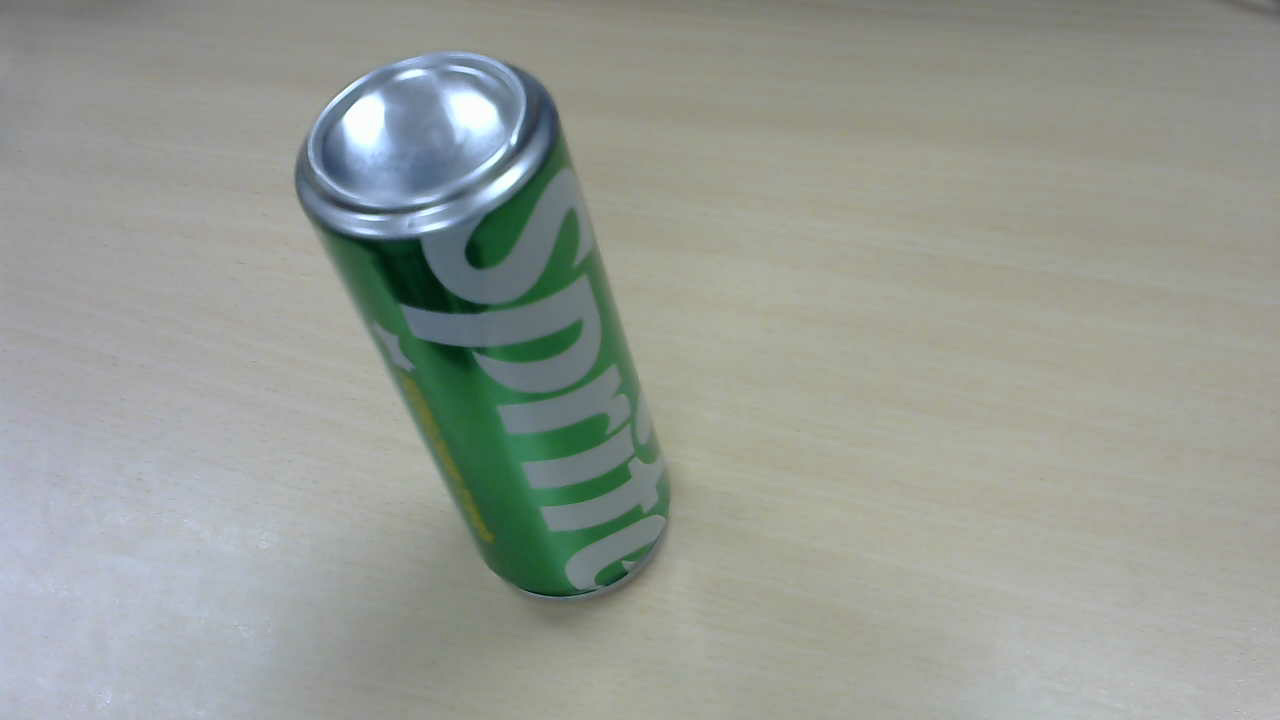Sprite: (297, 53, 679, 610)
